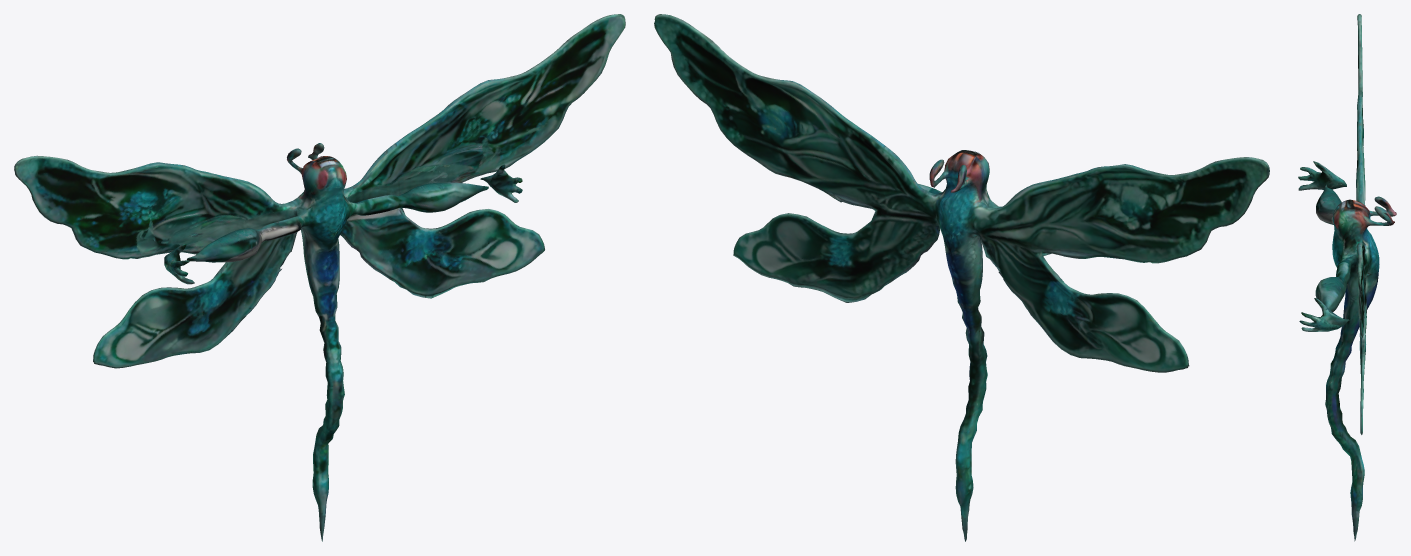
Rendered from modelOne.glb.
The picture shows the model from 3 angles, left to right: view 1: azimuth 30°, elevation 25°; view 2: azimuth 150°, elevation 25°; view 3: azimuth 270°, elevation 25°; orthographic projection. The views are drawn at different scales.
Bounding box in the file's own units: 1.99 × 1.42 × 0.3167.
1 material, 1 textured.
